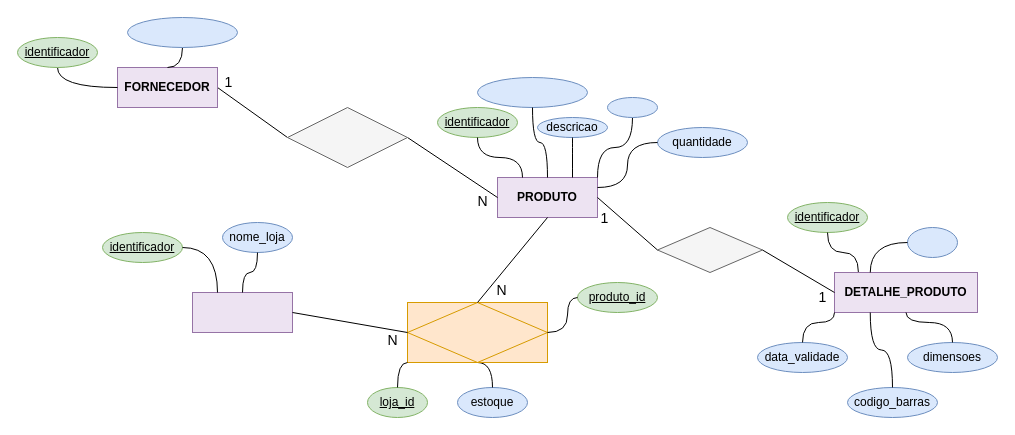
This 1015x435 diagram has some shape labels left out. The shapes that lost their labels are listed below. From the top down, each one's centre as x and y in pixels, then its label:
At point 182,32: "nome_fornecedor".
At point 532,92: "nome_produto".
At point 632,107: "preco".
At point 347,137: "FORNECE".
At point 709,249: "POSSUI".
At point 932,242: "peso".
At point 242,312: "LOJA".
At point 477,332: "LOJAS_PRODUTOS".
